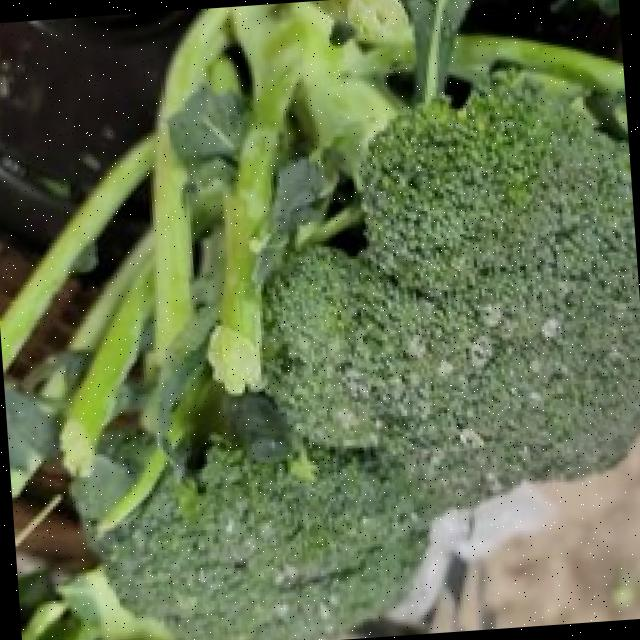Broccoli: (99, 77, 640, 640), (99, 82, 640, 640)
